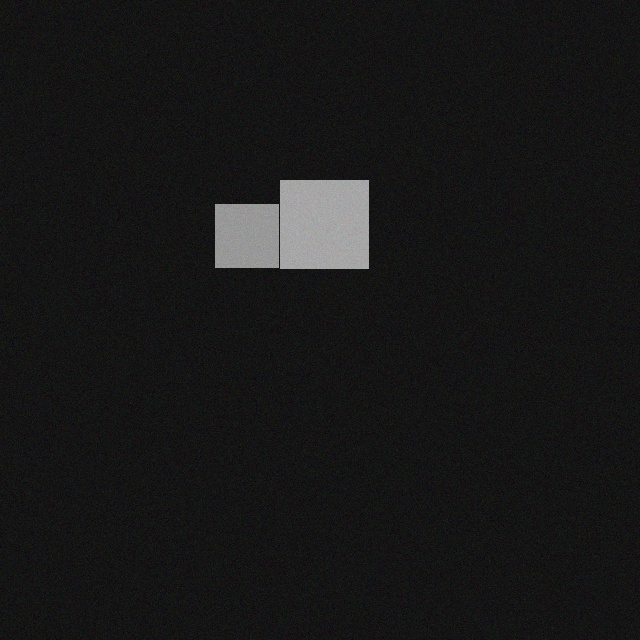square: (268, 178, 356, 266), (203, 202, 266, 265)
